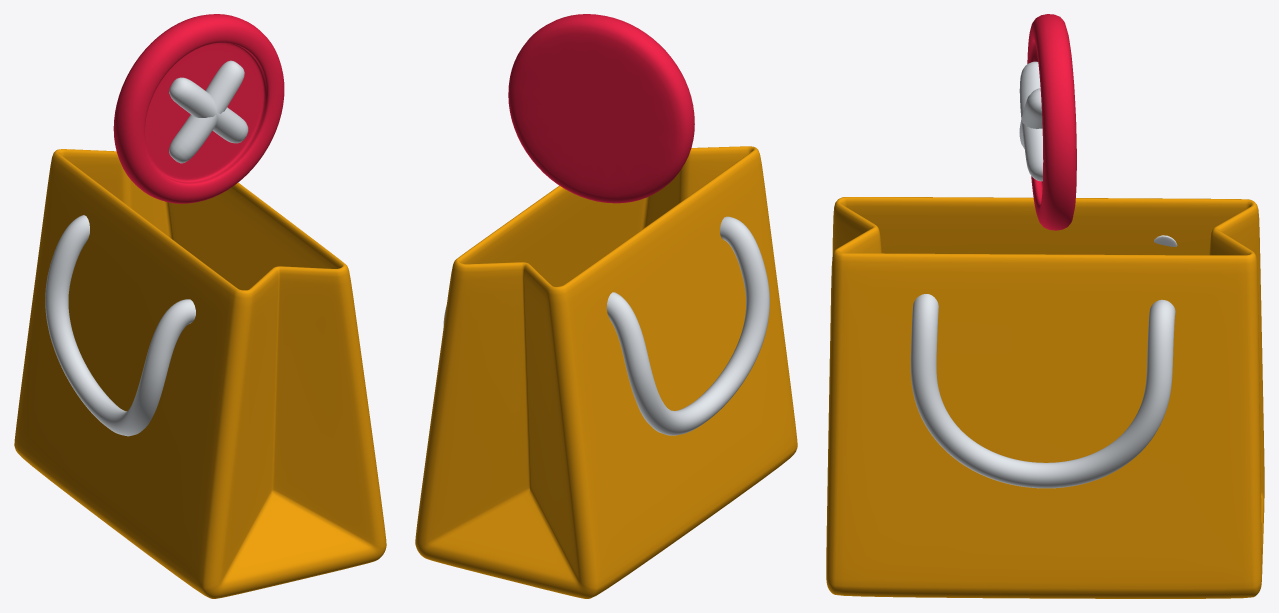
File: empty-shopping-bag-3d-animated-icon-1636082482850.glb
3 renders of one model, left to right at view 1: azimuth 30°, elevation 25°; view 2: azimuth 150°, elevation 25°; view 3: azimuth 270°, elevation 25°, orthographic. The views are drawn at different scales.
Visible parts, largest first — view 1: BAG, X SIGN, BézierCircle.001, X.001; view 2: BAG, X SIGN, BézierCircle.001; view 3: BAG, BézierCircle, X SIGN, X.001.
Boxes of the visible parts, bbox=[...] form: BAG: bbox=[14, 149, 386, 598]; X SIGN: bbox=[113, 14, 284, 203]; BézierCircle.001: bbox=[45, 215, 195, 436]; X.001: bbox=[169, 60, 248, 163]; BAG: bbox=[415, 146, 797, 598]; X SIGN: bbox=[508, 14, 694, 203]; BézierCircle.001: bbox=[606, 216, 769, 435]; BAG: bbox=[826, 197, 1264, 598]; BézierCircle: bbox=[910, 294, 1175, 488]; X SIGN: bbox=[1027, 14, 1076, 230]; X.001: bbox=[1019, 61, 1043, 181].
Bounding box in the file's own units: 0.3978 × 0.8443 × 0.6299.
